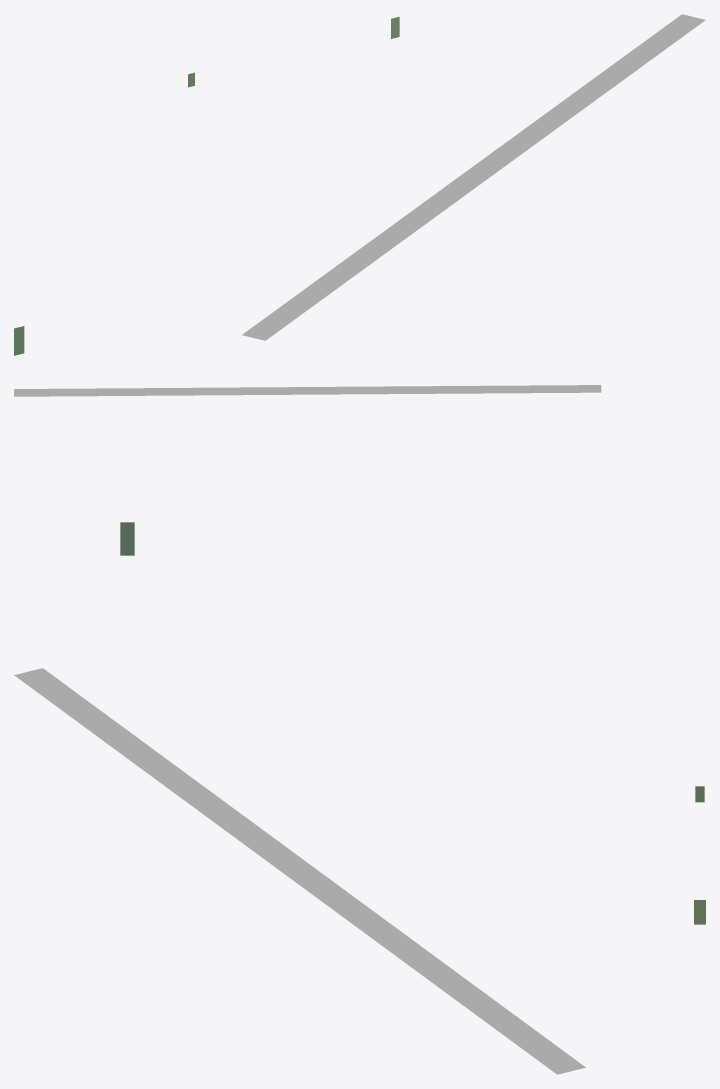
3 views of the same model, one above another, from view 1: azimuth 30°, elevation 25°; view 2: azimuth 150°, elevation 25°; view 3: azimuth 270°, elevation 25° (orthographic). The views are drawn at different scales.
Size of the model in its own units: 256 by 9.24 by 145.
